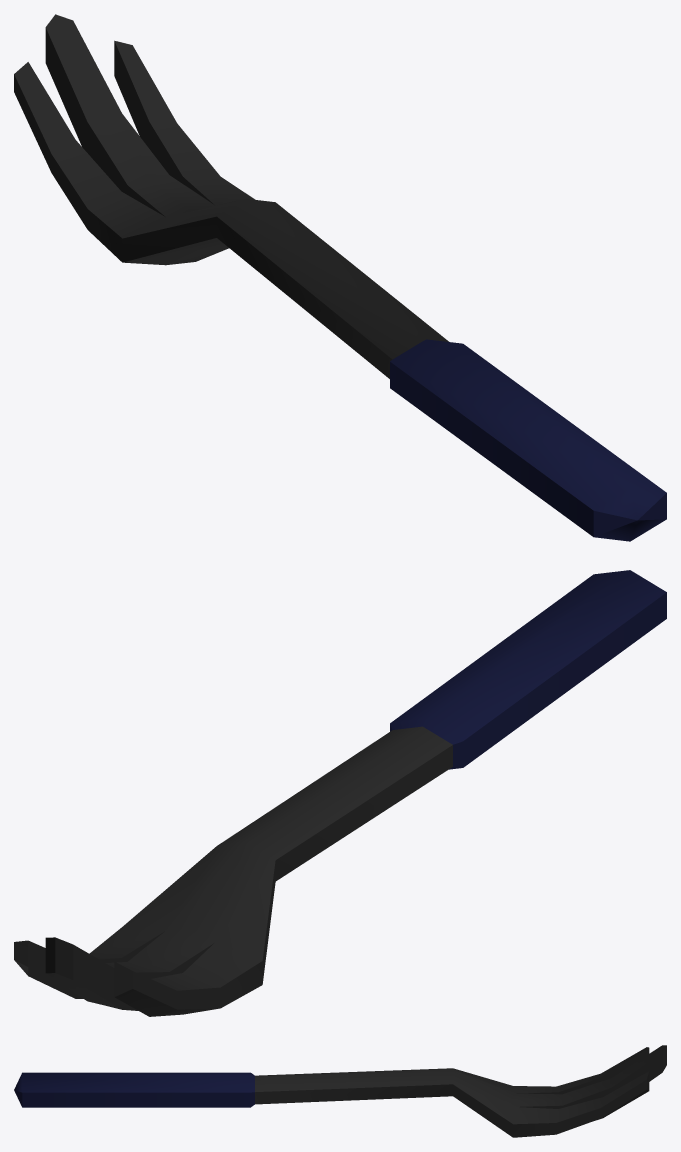
File: MDL_Tenedor.FBX
3 views of the same model, one above another, from view 1: azimuth 30°, elevation 25°; view 2: azimuth 150°, elevation 25°; view 3: azimuth 270°, elevation 25° (orthographic). The views are drawn at different scales.
Visible parts, largest first — view 1: Line011; view 2: Line011; view 3: Line011.
Part boxes in pixels (left/top/right/bottom): Line011: left=14, top=14, right=666, bottom=541; Line011: left=14, top=570, right=666, bottom=1016; Line011: left=14, top=1045, right=666, bottom=1137.
Size of the model in its own units: 6.96 by 6.92 by 50.03.
